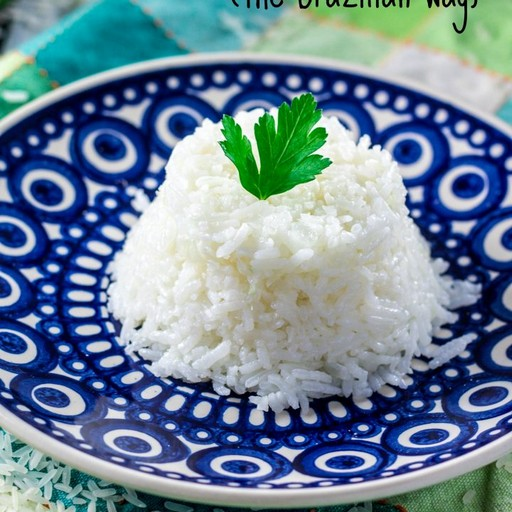rice: (186, 203, 388, 372)
